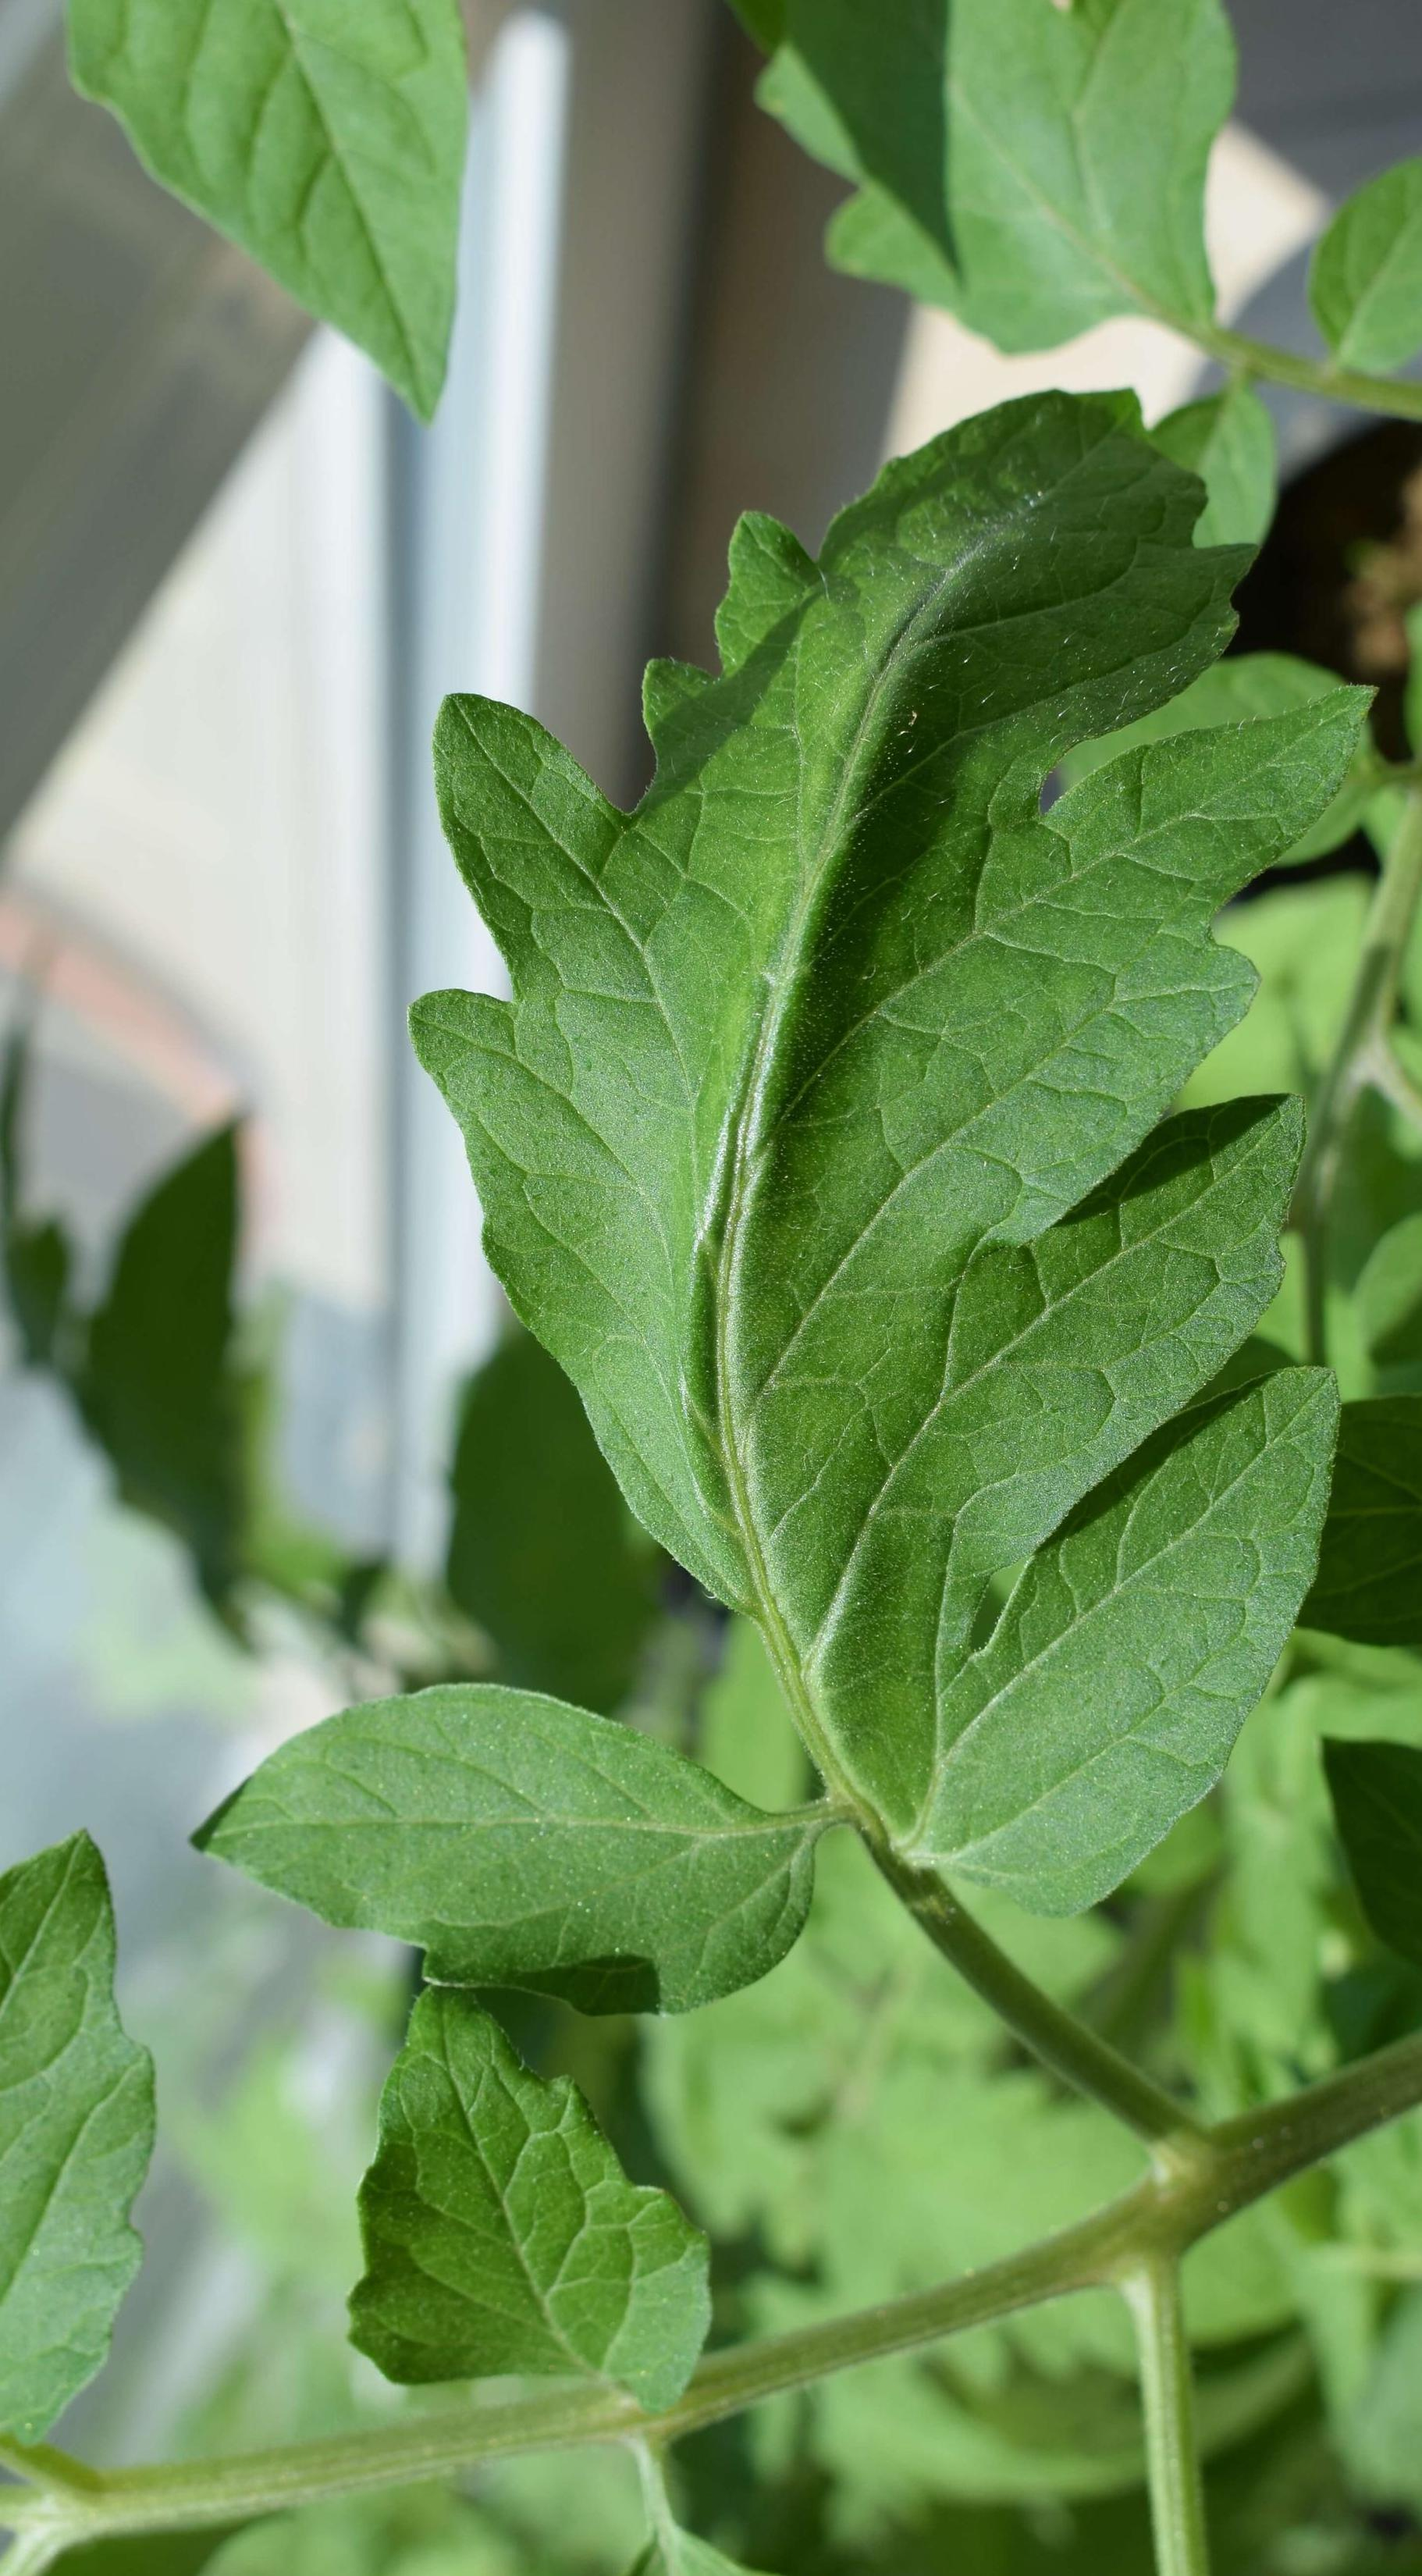Tomato leaf: (478, 385, 1422, 1973), (226, 1642, 872, 2029), (335, 1946, 807, 2471), (0, 1725, 204, 2441)
